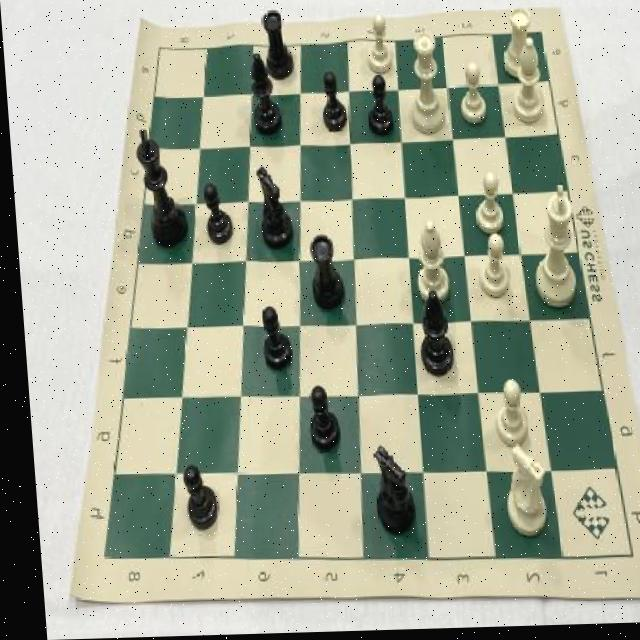bishop: (406, 288, 454, 385), (243, 46, 283, 144)
black-bishop: (129, 123, 187, 255)
black-king: (356, 439, 414, 544), (250, 163, 292, 259)
black-knight: (170, 456, 219, 540), (294, 379, 340, 459), (249, 302, 290, 377), (358, 72, 398, 143), (196, 178, 235, 250), (316, 71, 350, 140)
black-queen: (299, 228, 347, 317), (257, 7, 296, 89)
black-rook: (406, 215, 451, 310), (504, 36, 547, 131)
white-bishop: (522, 182, 582, 318)
white-king: (492, 442, 546, 546)
white-knight: (482, 376, 529, 454), (468, 233, 511, 306), (470, 170, 507, 241), (361, 12, 399, 80), (453, 63, 490, 132)
white-pawn: (401, 27, 447, 142)
white-queen: (493, 3, 536, 84)
